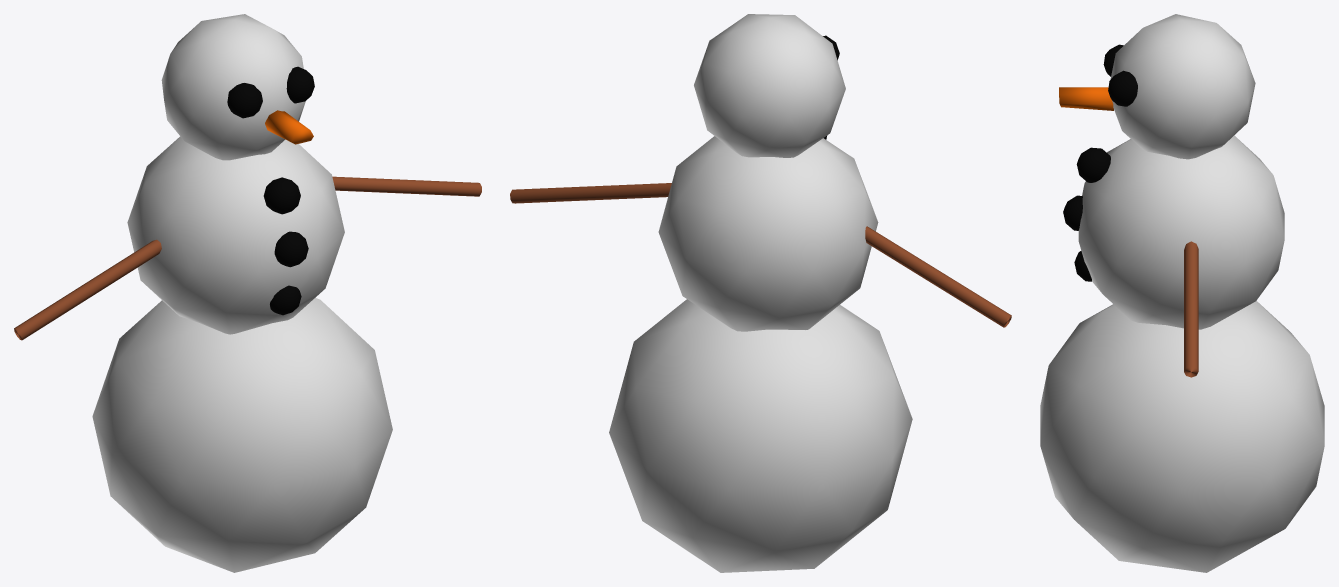
The model's file is Bonhomme_high_poly3.fbx.
3 renders of one model, left to right at view 1: azimuth 30°, elevation 25°; view 2: azimuth 150°, elevation 25°; view 3: azimuth 270°, elevation 25°, orthographic. The views are drawn at different scales.
Visible parts, largest first — view 1: Icosphere, Icosphere.001, Cylinder.003, Cylinder.002, Cylinder.001, Icosphere.005, Icosphere.006, Icosphere.007; view 2: Icosphere, Icosphere.001, Cylinder.003, Cylinder.002, Cylinder.001; view 3: Icosphere, Icosphere.001, Cylinder.003, Cylinder.001, Icosphere.005, Icosphere.006.
Part boxes in pixels (<box>): Icosphere: <box>92,298,392,572</box>; Icosphere.001: <box>127,136,344,334</box>; Cylinder.003: <box>161,14,314,160</box>; Cylinder.002: <box>14,239,161,340</box>; Cylinder.001: <box>332,176,481,196</box>; Icosphere.005: <box>263,177,300,214</box>; Icosphere.006: <box>274,231,308,267</box>; Icosphere.007: <box>270,285,301,315</box>; Icosphere: <box>609,299,912,572</box>; Icosphere.001: <box>658,136,878,331</box>; Cylinder.003: <box>694,14,845,157</box>; Cylinder.002: <box>865,226,1011,327</box>; Cylinder.001: <box>510,183,671,203</box>; Icosphere: <box>1040,301,1324,572</box>; Icosphere.001: <box>1078,135,1284,329</box>; Cylinder.003: <box>1059,14,1255,159</box>; Cylinder.001: <box>1184,241,1198,377</box>; Icosphere.005: <box>1076,147,1110,182</box>; Icosphere.006: <box>1063,195,1082,230</box>.
Bounding box in the file's own units: 365 × 396 × 190.
